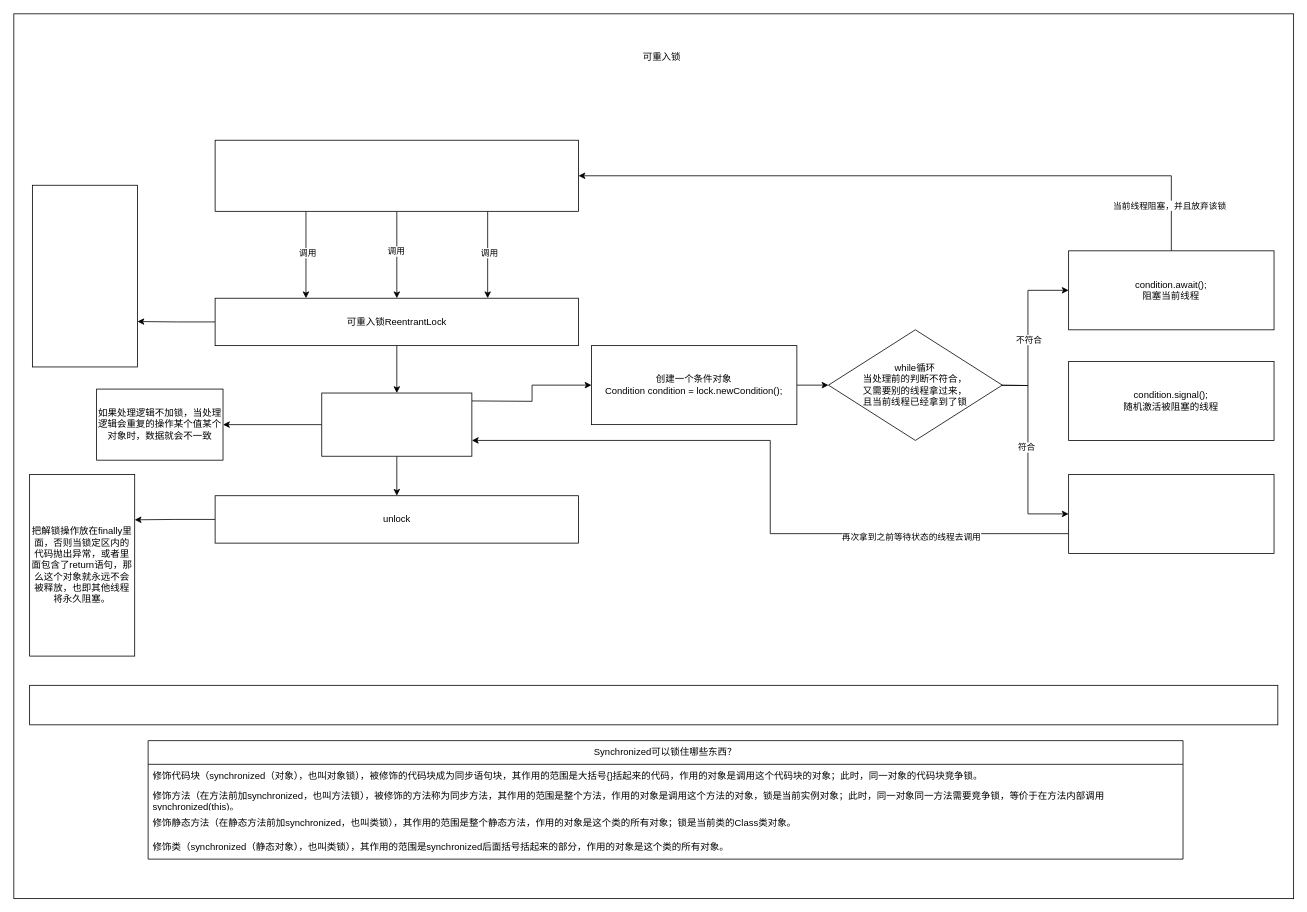
The diagram is 1307 pixels wide and 912 high, and some of its shapes have lost their labels. Here are the shapes that lost their labels. From the top down, the centre of each, then its label:
point (396, 175): 多线程调用
point (84, 275): 当多个线程同时共享了某个变量，并且可能同时通过某个方法去修改的时候，需要添加可重入锁RentrantLock来将对象或对象的方法给锁住来解决
point (396, 424): 处理逻辑
point (1171, 513): condition.signalAll(); 激活所有被阻塞的线程
point (653, 705): Synchronized
